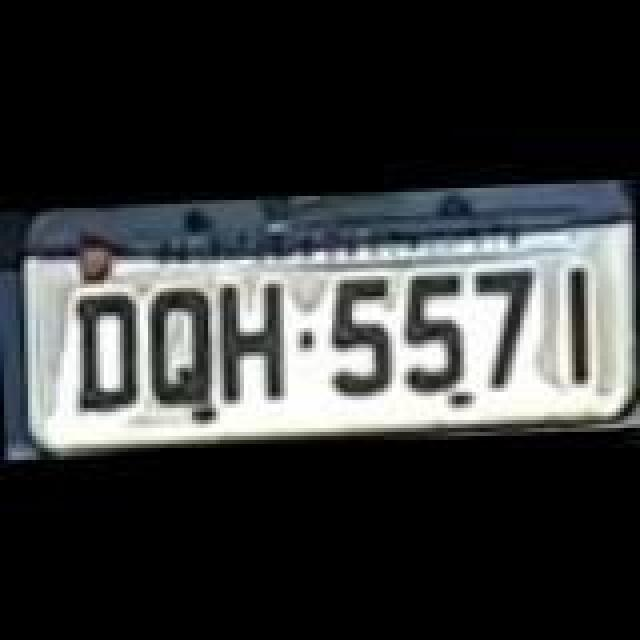1: (560, 264, 600, 392)
5: (322, 270, 398, 402), (398, 274, 466, 398)
7: (478, 270, 538, 386)
D: (70, 286, 146, 418)
H: (216, 278, 296, 410)
Q: (144, 288, 224, 416)
